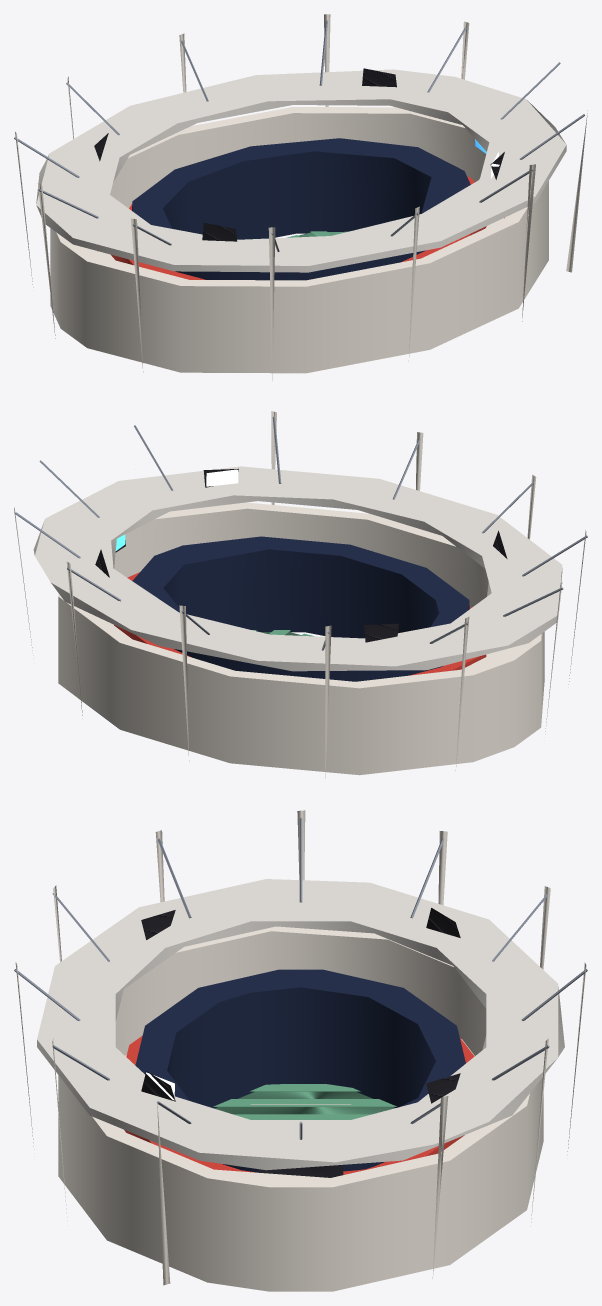
Rendered from stadium.glb.
3 renders of one model, top to bottom at view 1: azimuth 30°, elevation 25°; view 2: azimuth 150°, elevation 25°; view 3: azimuth 270°, elevation 25°, orthographic. The views are drawn at different scales.
Parts seen in each view (by area): view 1: stadium; view 2: stadium; view 3: stadium.
Boxes of the visible parts, x1,y1,x2,y2 form: stadium: [14, 14, 587, 380]; stadium: [14, 411, 587, 778]; stadium: [14, 810, 587, 1291].
Size of the model in its own units: 76.7 by 22.82 by 60.62.
1 material, 1 textured.
